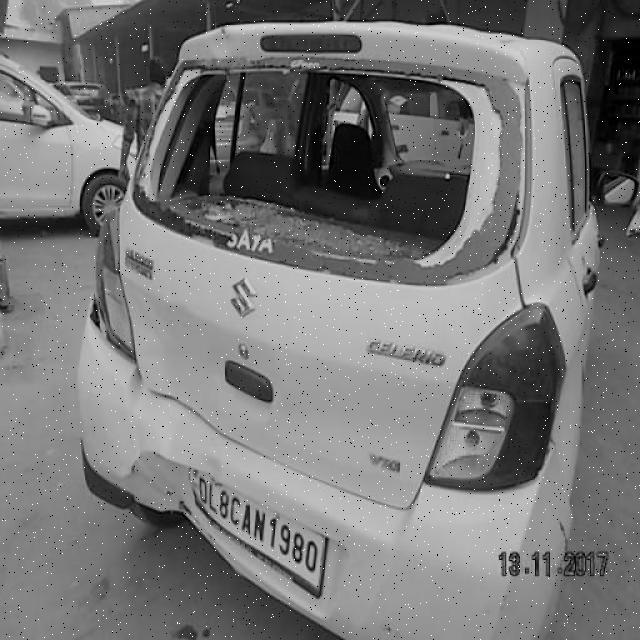car damage: (138, 63, 515, 264), (123, 427, 222, 515), (127, 368, 233, 442), (92, 292, 137, 371), (558, 521, 573, 555)
